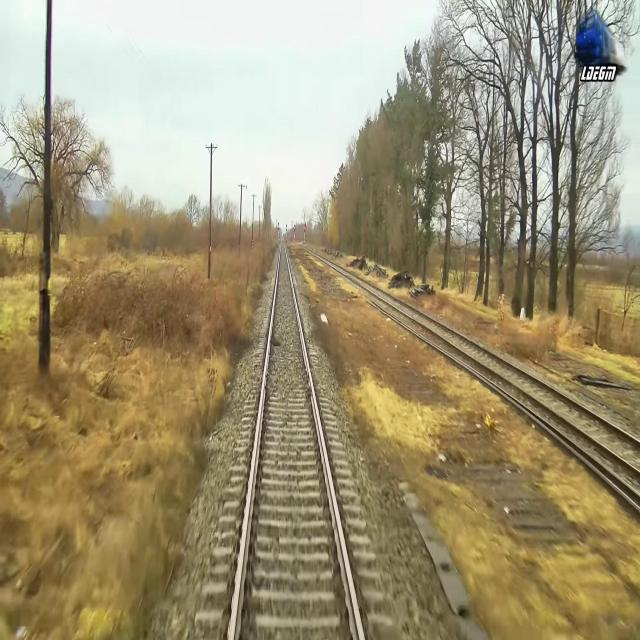rail-track: (309, 249, 640, 468), (233, 238, 360, 639)
